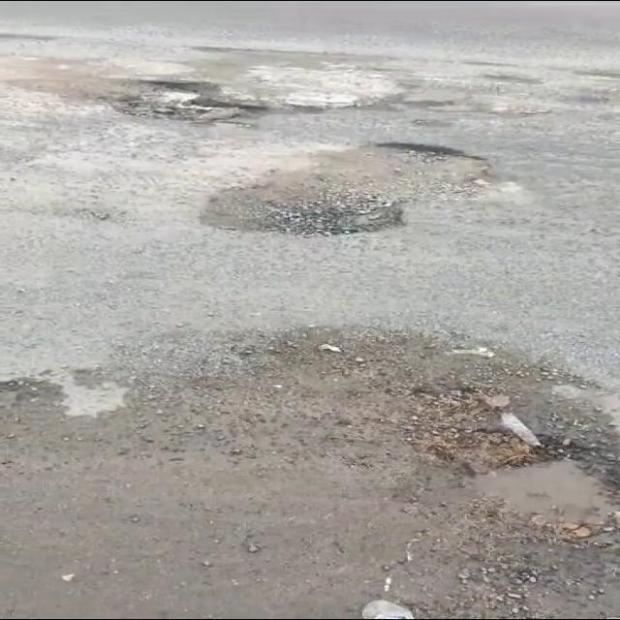lubang: (405, 388, 619, 541), (202, 143, 516, 235), (82, 79, 288, 123)
